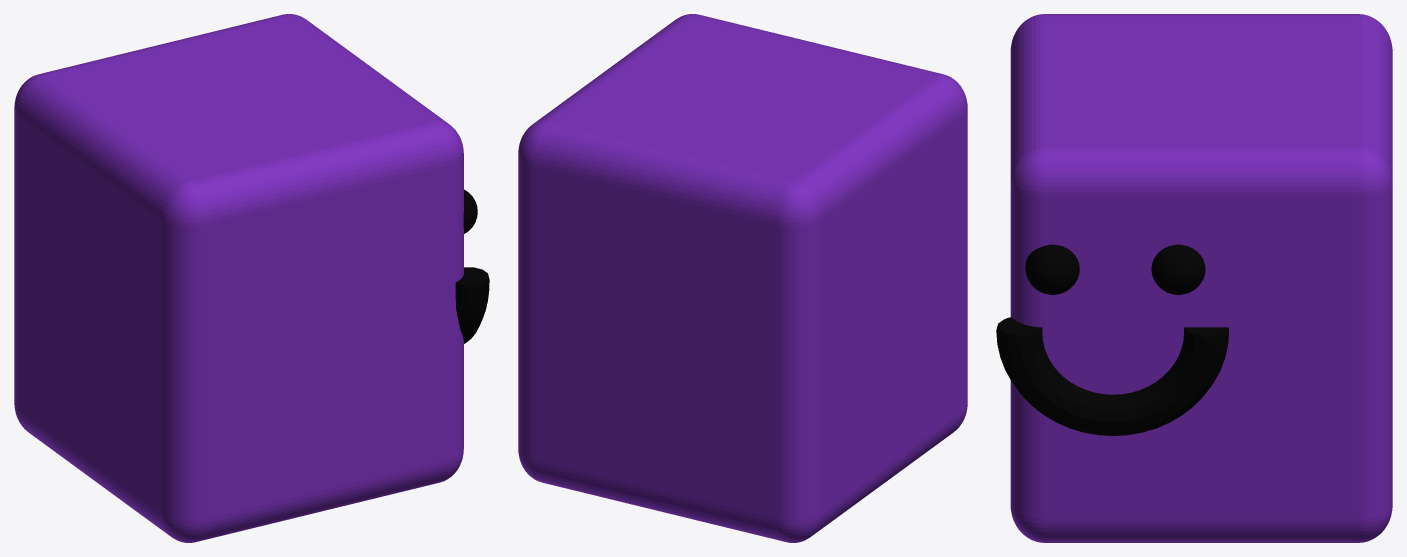
File: Chracter_DarkPurple.glb
3 renders of one model, left to right at view 1: azimuth 30°, elevation 25°; view 2: azimuth 150°, elevation 25°; view 3: azimuth 270°, elevation 25°, orthographic. The views are drawn at different scales.
Visible parts, largest first — view 1: Chracter_DarkPurple; view 2: Chracter_DarkPurple; view 3: Chracter_DarkPurple.
Part boxes in pixels (<box>): Chracter_DarkPurple: <box>14,14,489,542</box>; Chracter_DarkPurple: <box>518,14,967,542</box>; Chracter_DarkPurple: <box>996,14,1392,542</box>.
Bounding box in the file's own units: 1.84 × 2 × 1.83.
